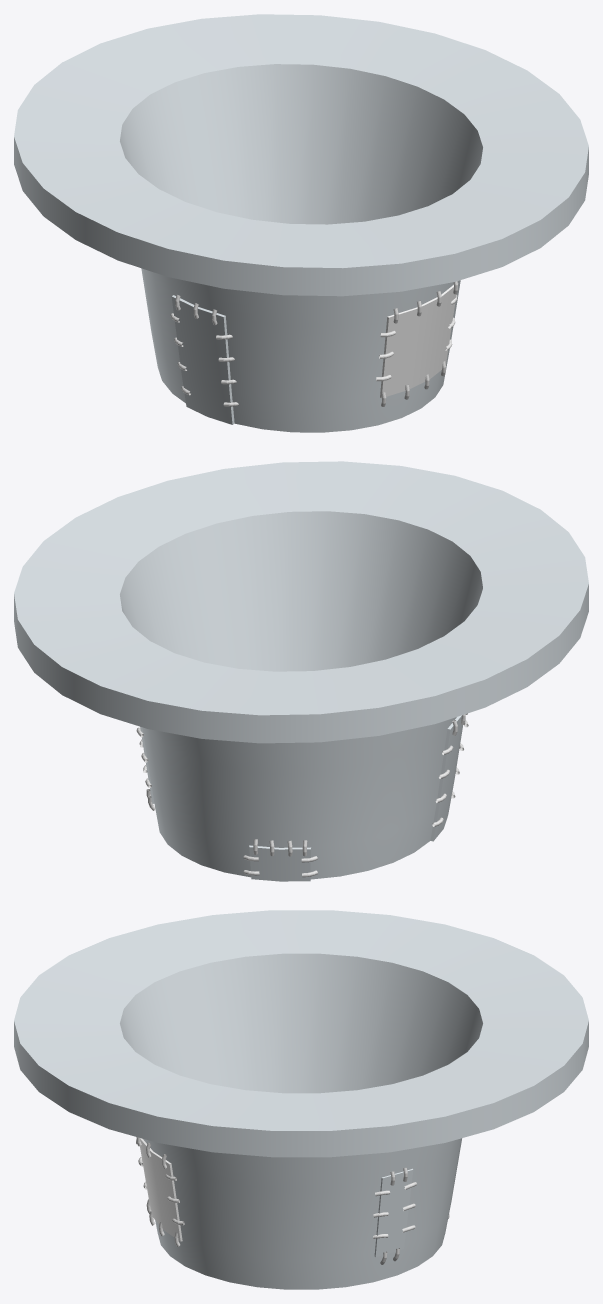
Rendered from Hat2.fbx.
The picture shows the model from 3 angles, top to bottom: view 1: azimuth 30°, elevation 25°; view 2: azimuth 150°, elevation 25°; view 3: azimuth 270°, elevation 25°; orthographic projection. The views are drawn at different scales.
Visible parts, largest first — view 1: Cylinder.004, Cylinder.021, Cylinder.011, Vert.008; view 2: Cylinder.004, Cylinder.026, Cylinder.021, Vert.028; view 3: Cylinder.004, Cylinder.025, Cylinder.011, Vert.004, Vert.008.
Part boxes in pixels (<box>): Cylinder.004: <box>14,14,588,432</box>; Cylinder.021: <box>171,295,234,424</box>; Cylinder.011: <box>380,283,458,398</box>; Vert.008: <box>376,281,457,406</box>; Cylinder.004: <box>14,461,588,879</box>; Cylinder.026: <box>249,845,311,881</box>; Cylinder.021: <box>430,715,462,841</box>; Vert.028: <box>243,839,317,877</box>; Cylinder.004: <box>14,910,588,1289</box>; Cylinder.025: <box>374,1168,413,1257</box>; Cylinder.011: <box>140,1138,182,1241</box>; Vert.004: <box>373,1167,416,1264</box>; Vert.008: <box>136,1137,184,1246</box>.
Size of the model in its own units: 66.55 by 31.6 by 73.28.
